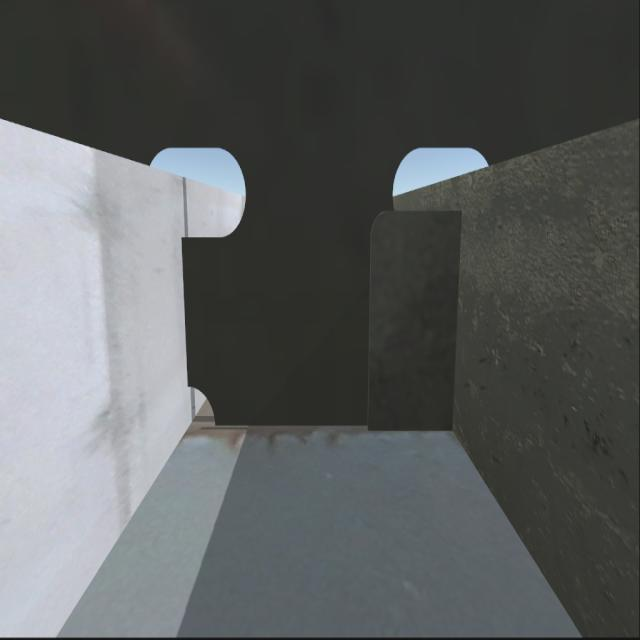fillet_hole: (185, 378, 222, 430)
fillet_yong_jeop_jang: (212, 421, 453, 435)
longi_yong_jeop_jang: (443, 213, 463, 429)
plate_CP05: (366, 214, 458, 430)
